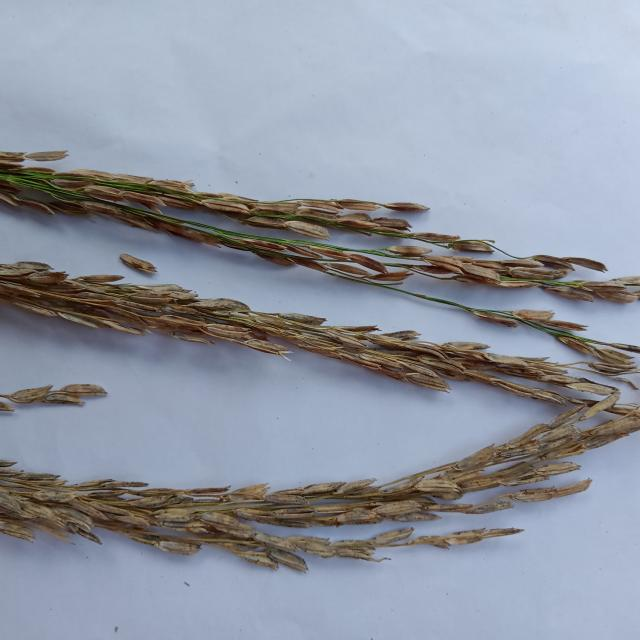Neck_Blast: (1, 414, 614, 557), (1, 264, 590, 411), (0, 163, 632, 299)
